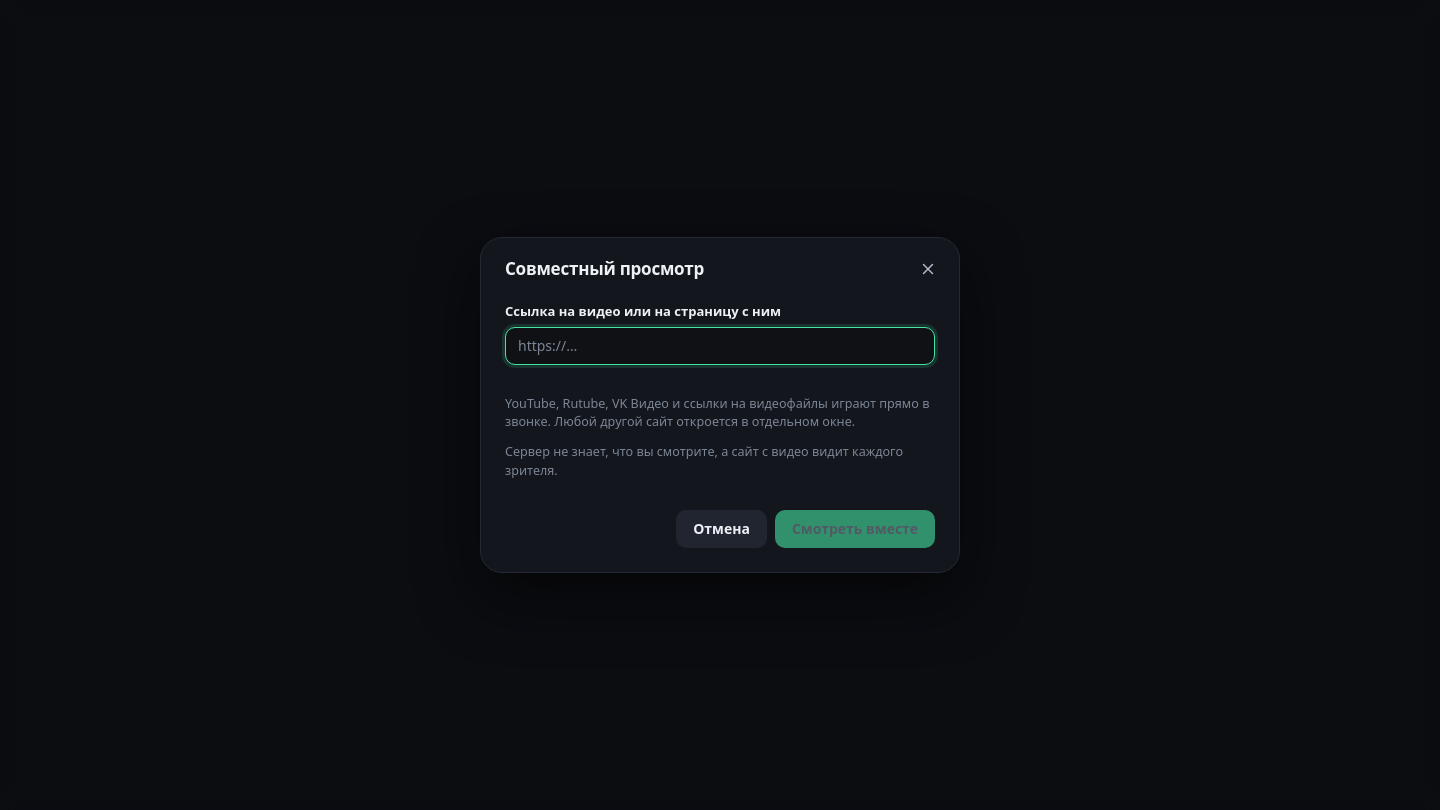
watching together › starts a link it can play, says why not, and asks how to watch any other site
Later steps or results of the test are not shown.
Type "http://example.com/page" into the field labelled "Ссылка на видео или на страницу с ним".
click(720, 346); type("http://example.com/page")  # box [505, 327, 935, 365]
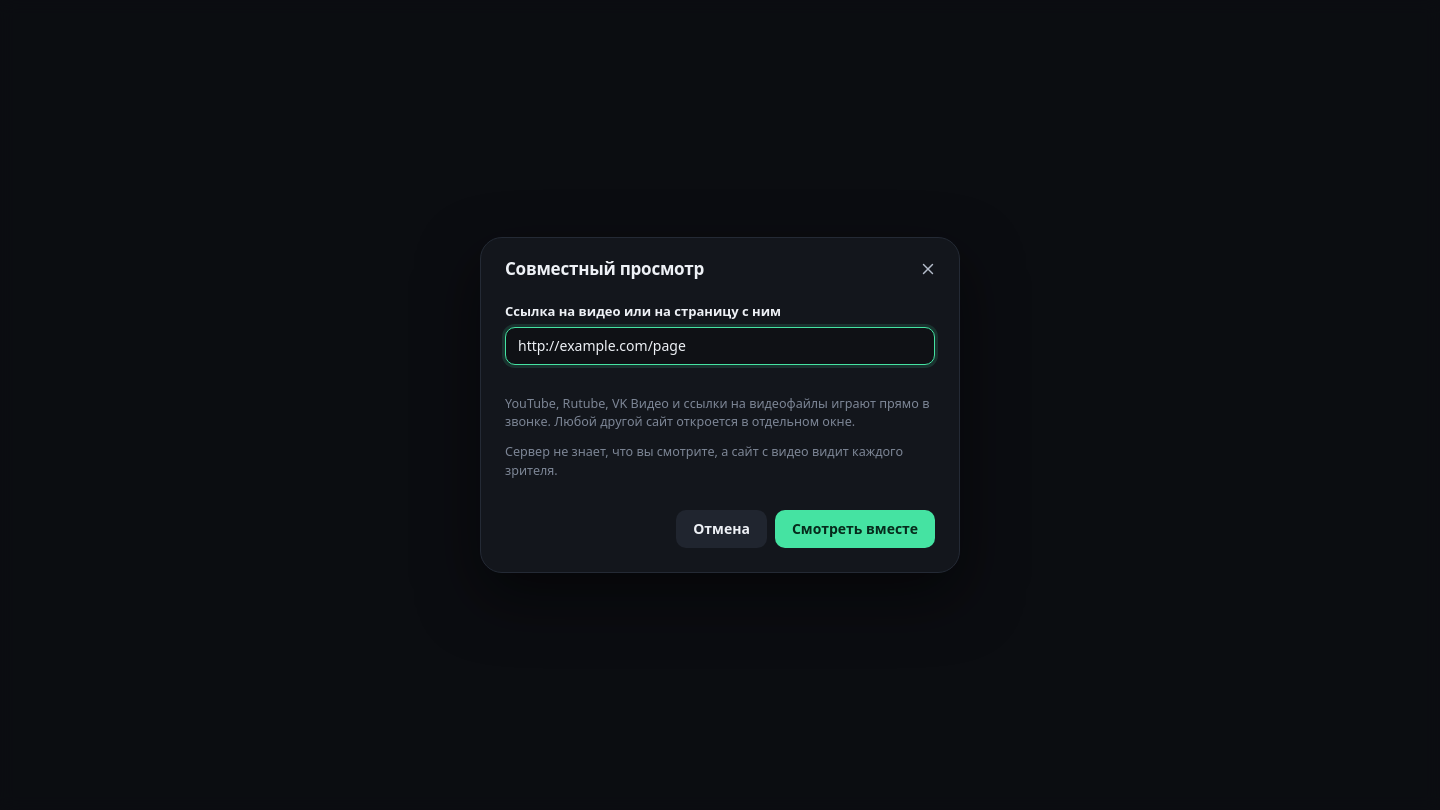
Click the button "Смотреть вместе".
click(855, 529)  # box [775, 510, 935, 548]
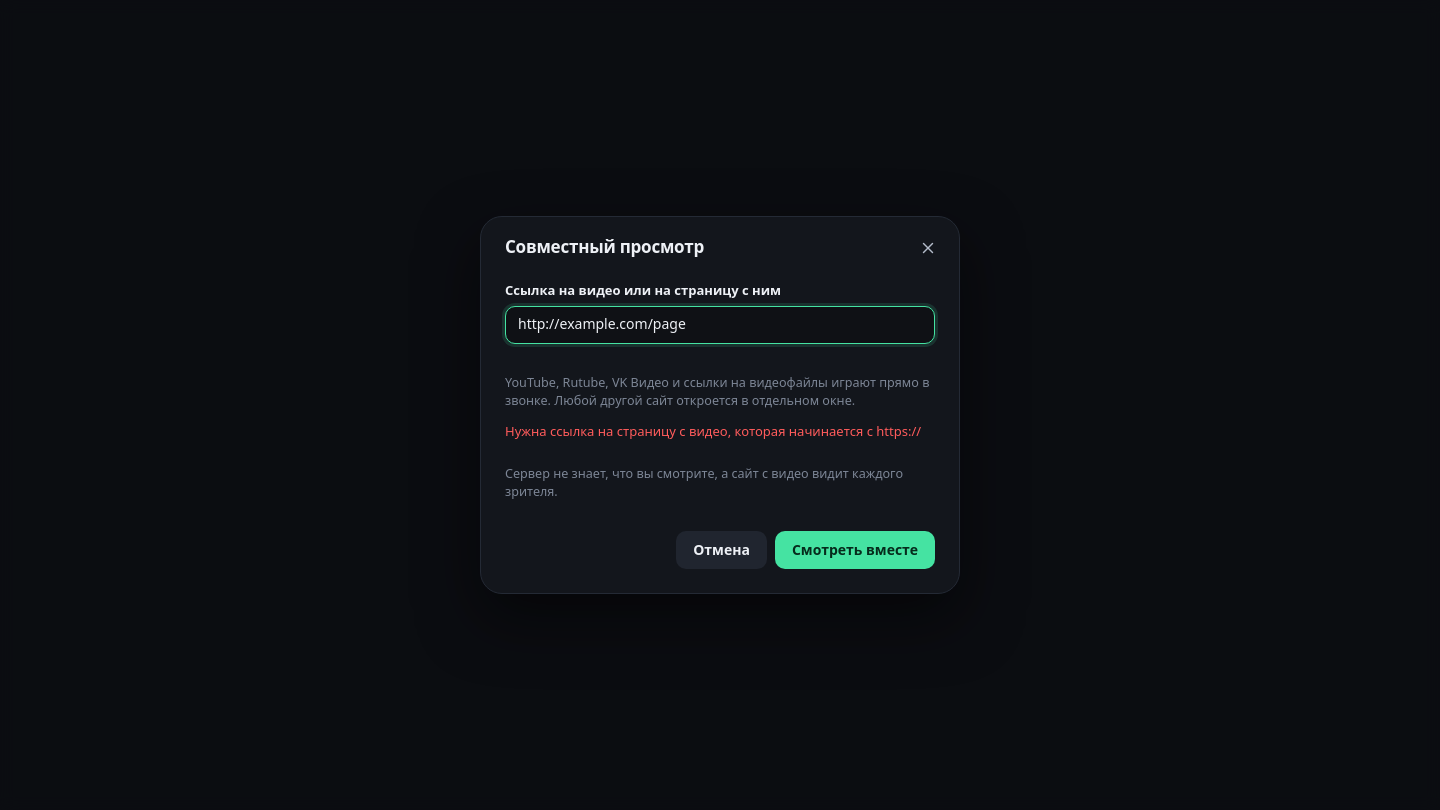
Now the text "начинается с https" is shown, box [505, 422, 921, 440]
